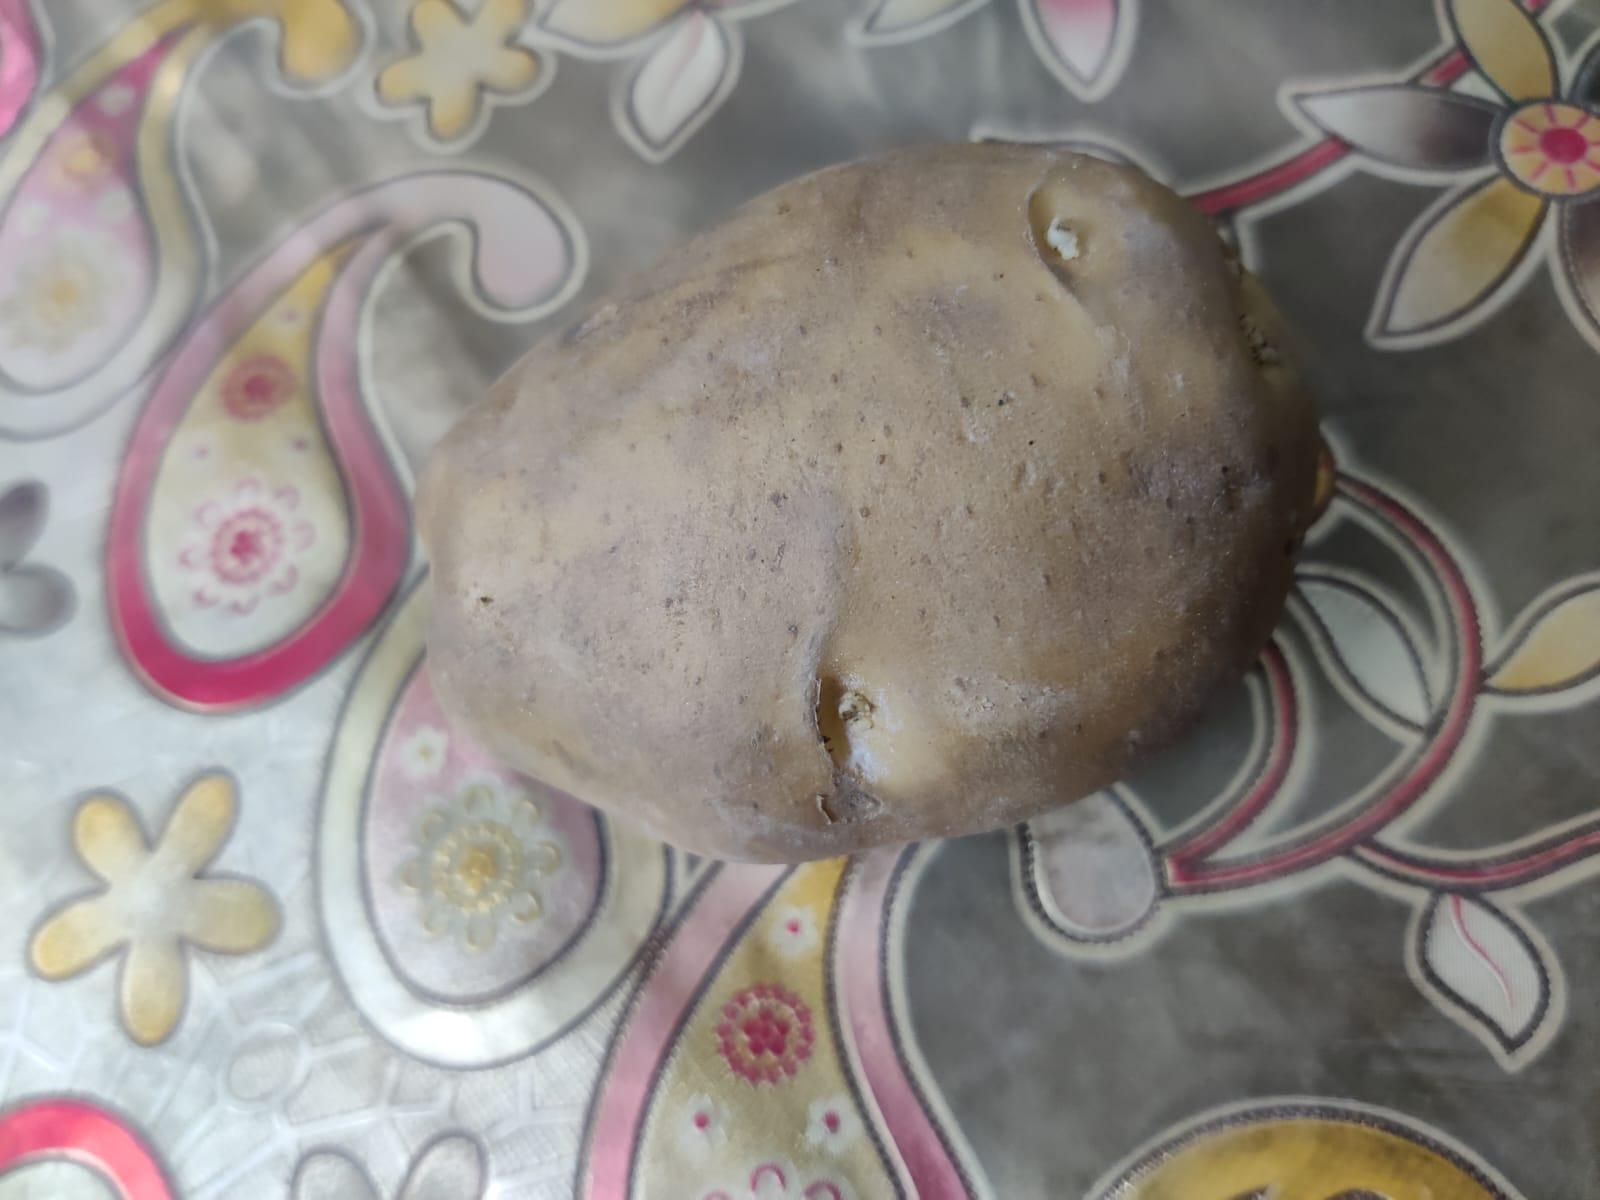non-mango: (418, 140, 1329, 856)
